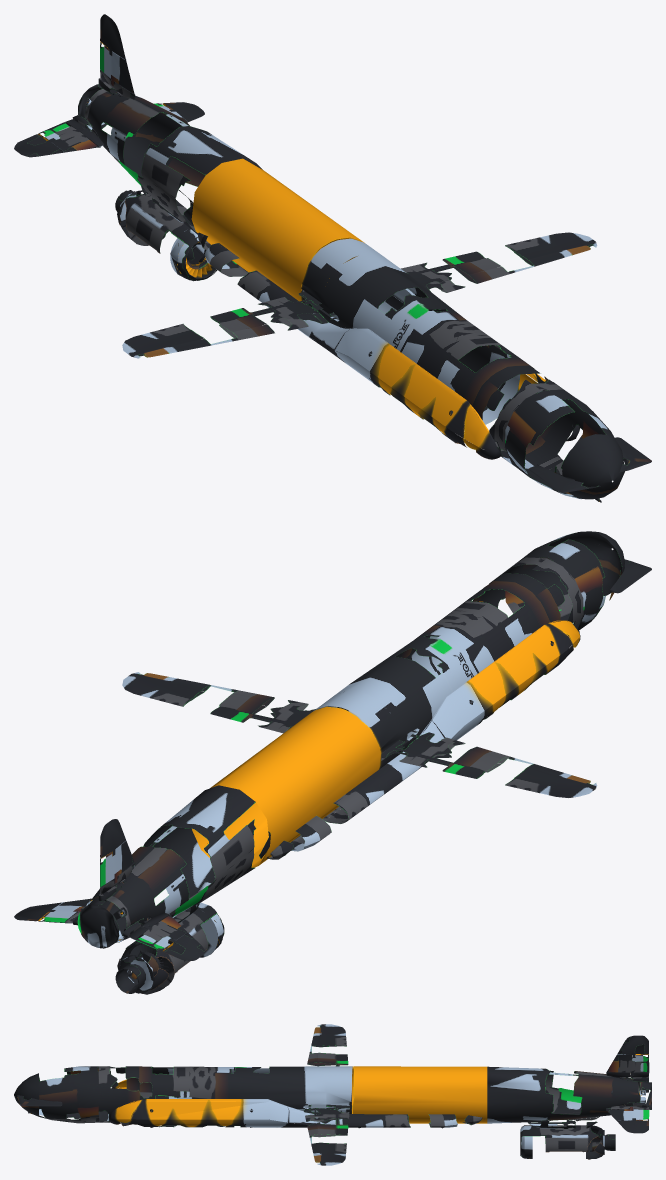
File: missile_9_body(new).fbx
3 renders of one model, top to bottom at view 1: azimuth 30°, elevation 25°; view 2: azimuth 150°, elevation 25°; view 3: azimuth 270°, elevation 25°, orthographic. The views are drawn at different scales.
Parts seen in each view (by area): view 1: X-555 (Final), X-555 (Final)_HA-555_0.002, X-555 (Final)_HA-555_0.001; view 2: X-555 (Final), X-555 (Final)_HA-555_0.002, X-555 (Final)_HA-555_0.001; view 3: X-555 (Final), X-555 (Final)_HA-555_0.001, X-555 (Final)_HA-555_0.002.
Boxes of the visible parts, <box> form: X-555 (Final): <box>14,14,651,502</box>; X-555 (Final)_HA-555_0.002: <box>122,291,337,358</box>; X-555 (Final)_HA-555_0.001: <box>401,232,597,295</box>; X-555 (Final): <box>14,531,651,994</box>; X-555 (Final)_HA-555_0.002: <box>381,730,597,797</box>; X-555 (Final)_HA-555_0.001: <box>122,672,315,733</box>; X-555 (Final): <box>14,1035,651,1159</box>; X-555 (Final)_HA-555_0.001: <box>303,1104,349,1165</box>; X-555 (Final)_HA-555_0.002: <box>307,1024,348,1066</box>.
Bounding box in the file's own units: 217 × 88.22 × 416.
